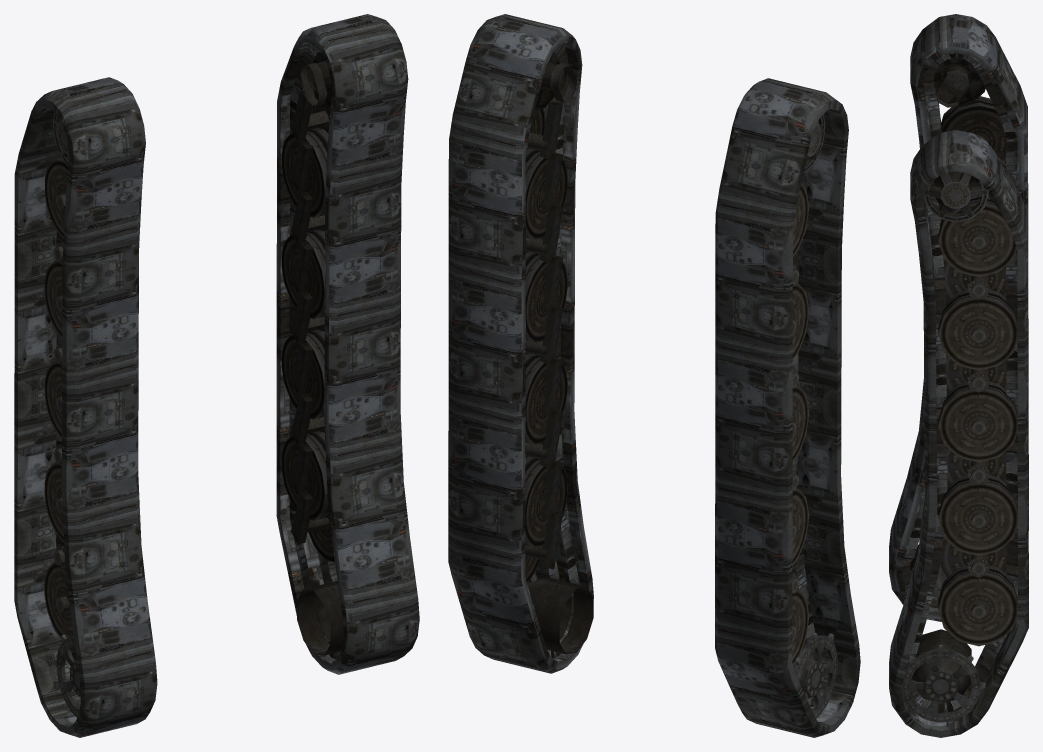
The model's file is Chassis.obj.
The picture shows the model from 3 angles, left to right: view 1: azimuth 30°, elevation 25°; view 2: azimuth 150°, elevation 25°; view 3: azimuth 270°, elevation 25°; orthographic projection. The views are drawn at different scales.
Parts seen in each view (by area): view 1: 3D_Object_2, 3D_Object_1, 3D_Object_3, 3D_Object_4; view 2: 3D_Object_2, 3D_Object_1, 3D_Object_3, 3D_Object_4; view 3: 3D_Object_3, 3D_Object_1, 3D_Object_2, 3D_Object_4.
Part boxes in pixels (x1=…): 3D_Object_2: x1=14, y1=77, x2=157, y2=737; 3D_Object_1: x1=276, y1=14, x2=419, y2=674; 3D_Object_3: x1=281, y1=52, x2=343, y2=655; 3D_Object_4: x1=44, y1=112, x2=81, y2=717; 3D_Object_2: x1=715, y1=78, x2=860, y2=737; 3D_Object_1: x1=448, y1=14, x2=593, y2=673; 3D_Object_3: x1=525, y1=52, x2=593, y2=654; 3D_Object_4: x1=792, y1=114, x2=837, y2=718; 3D_Object_3: x1=902, y1=171, x2=1017, y2=722; 3D_Object_1: x1=889, y1=130, x2=1028, y2=737; 3D_Object_2: x1=889, y1=14, x2=1028, y2=621; 3D_Object_4: x1=910, y1=58, x2=1016, y2=608.
Bounding box in the file's own units: 3.66 × 6.61 × 1.44.
Materials: 4 (4 with a texture image).
